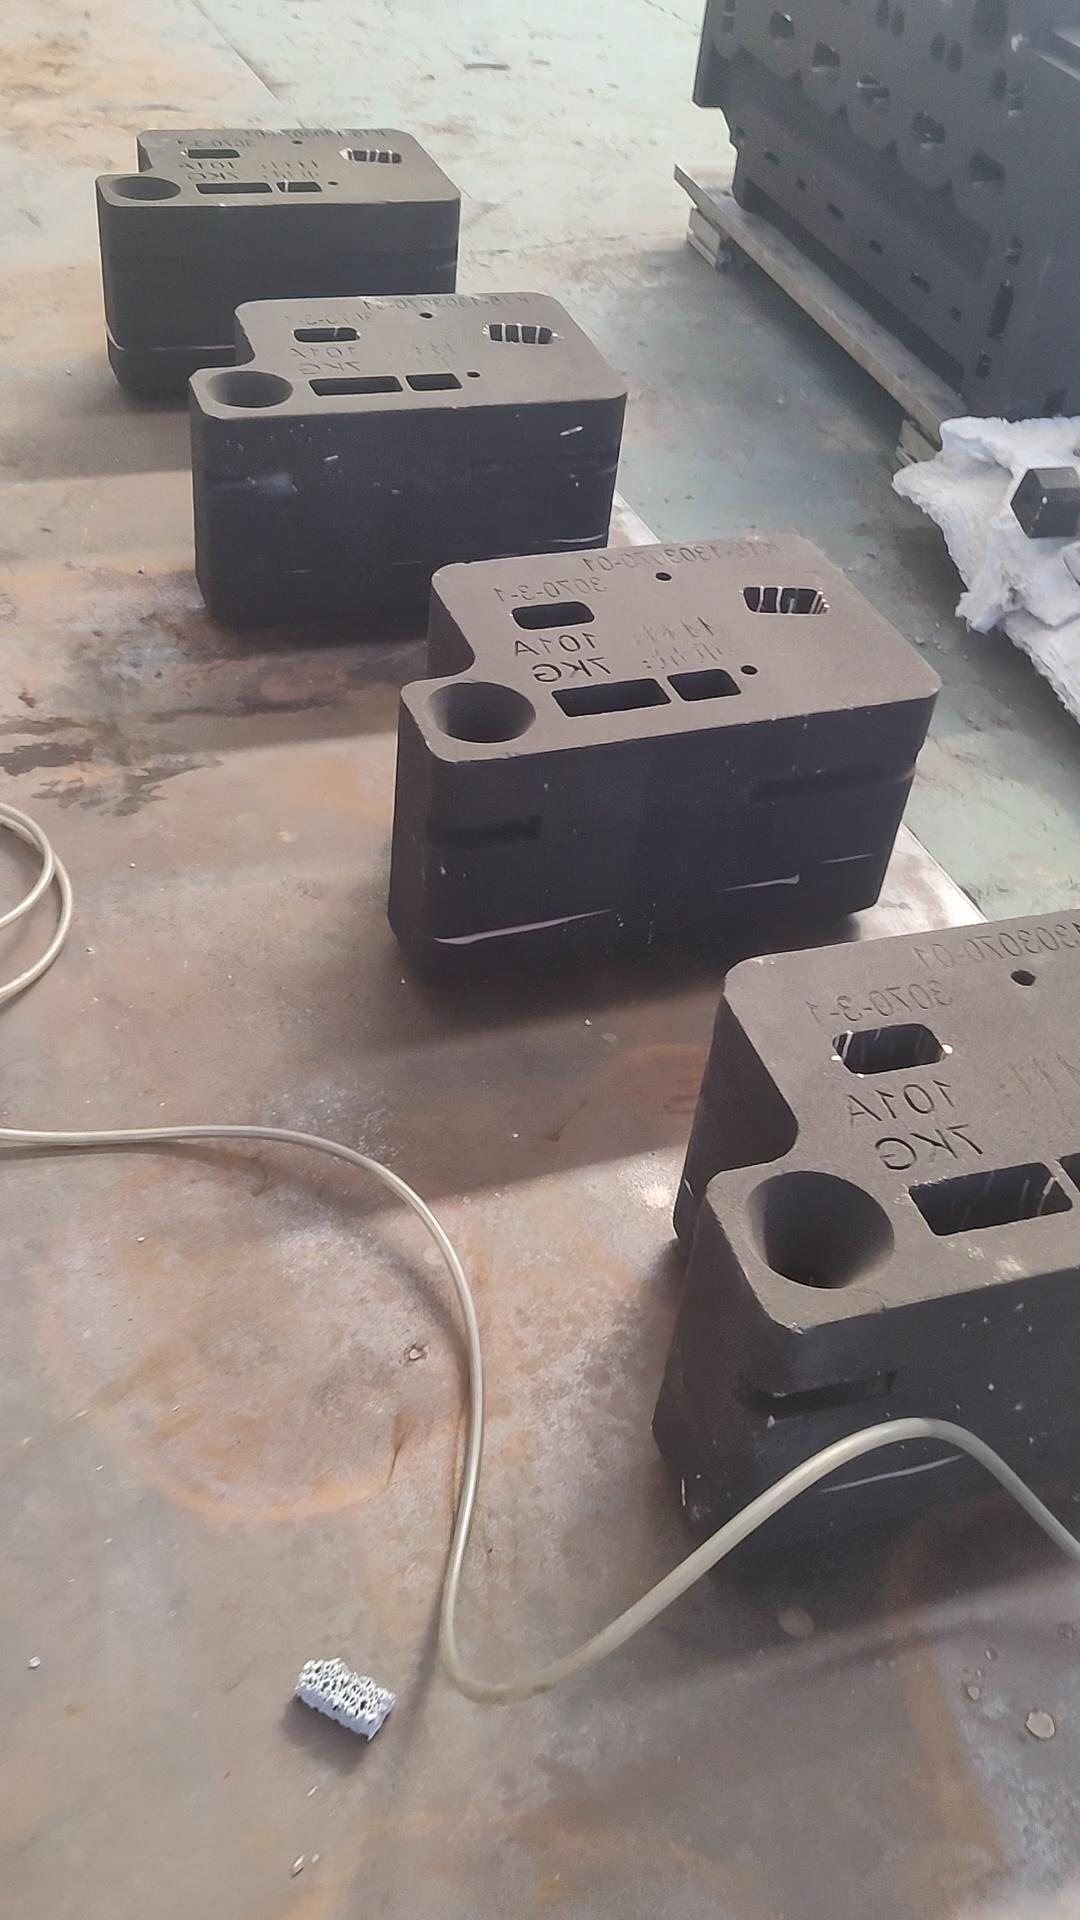pouring hole: (744, 1171, 895, 1287), (423, 682, 535, 746), (203, 369, 293, 407), (967, 1, 1013, 54), (108, 175, 179, 200)
